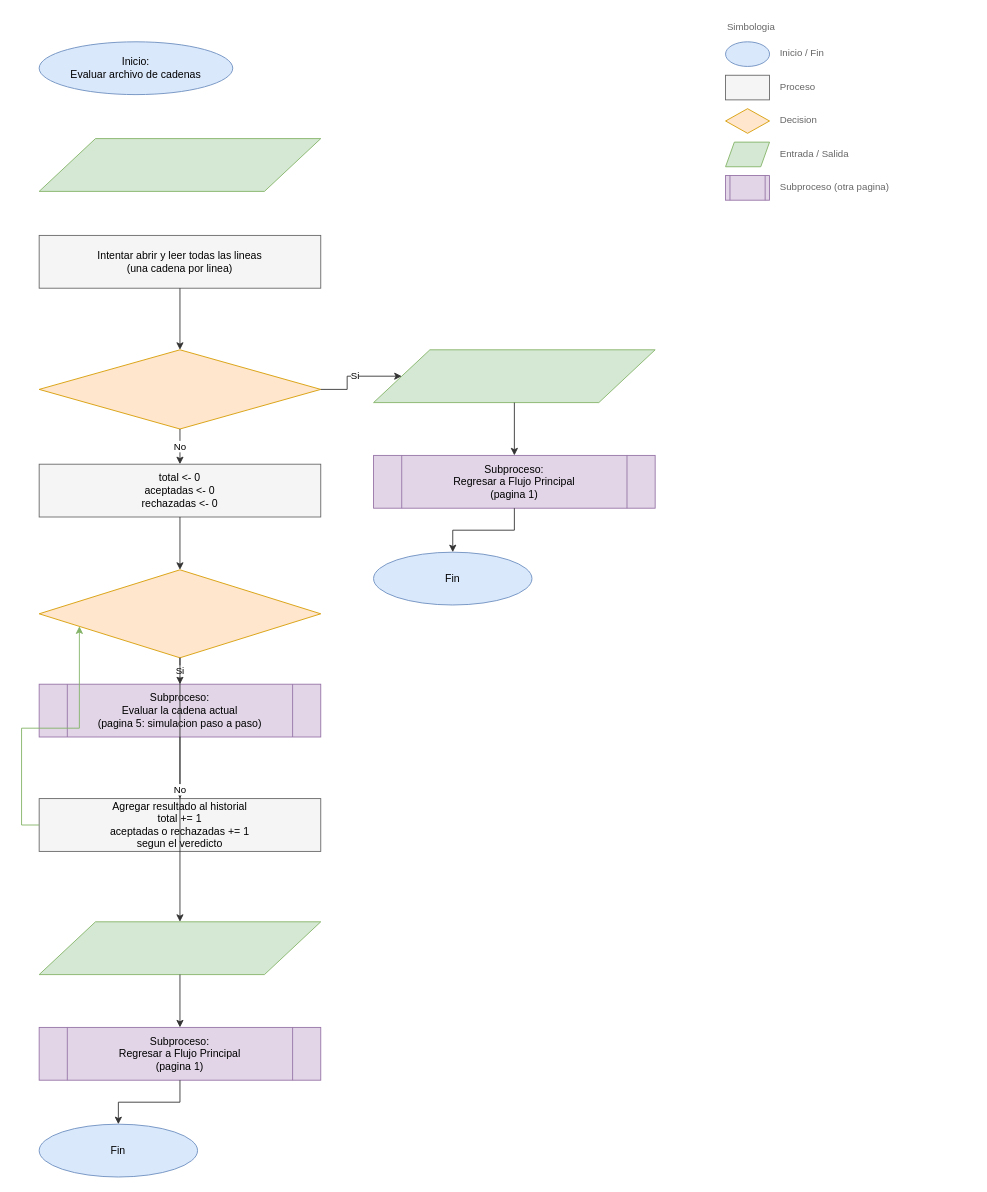
Some shapes in this 987 by 1192 pixel diagram are drawn without their labels. The shapes that lost their labels are listed below. From the top down, each one's centre as x and y in pixels, then its label:
point 179,164: Pedir ruta del archivo de cadenas
point 179,389: ¿Error al abrir el archivo?
point 514,376: Mostrar: 'No se pudo abrir el archivo'
point 179,613: ¿Quedan cadenas por evaluar?
point 179,948: Mostrar resumen: total evaluadas, aceptadas y rechazadas
